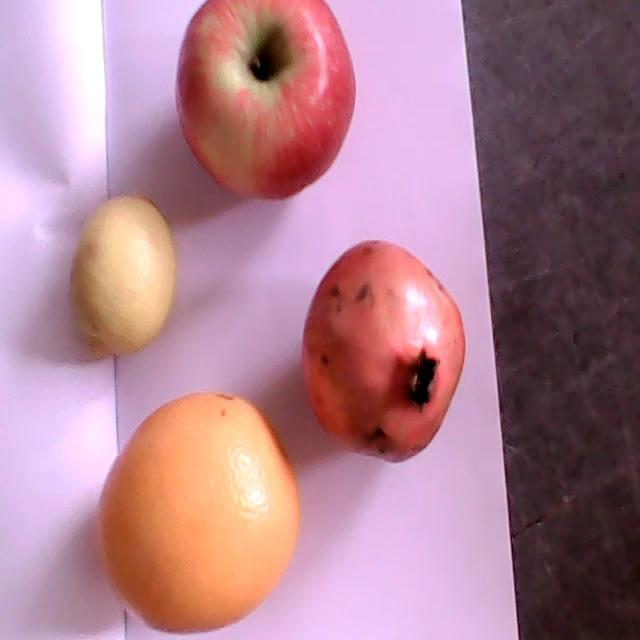apple: (175, 0, 357, 201)
lemon: (66, 194, 178, 357)
orange: (96, 388, 302, 633)
pomegranate: (299, 242, 467, 460)
